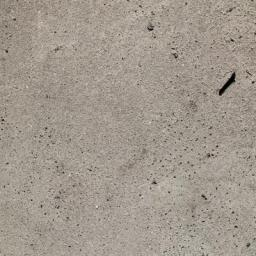FOD: (219, 70, 240, 100)
